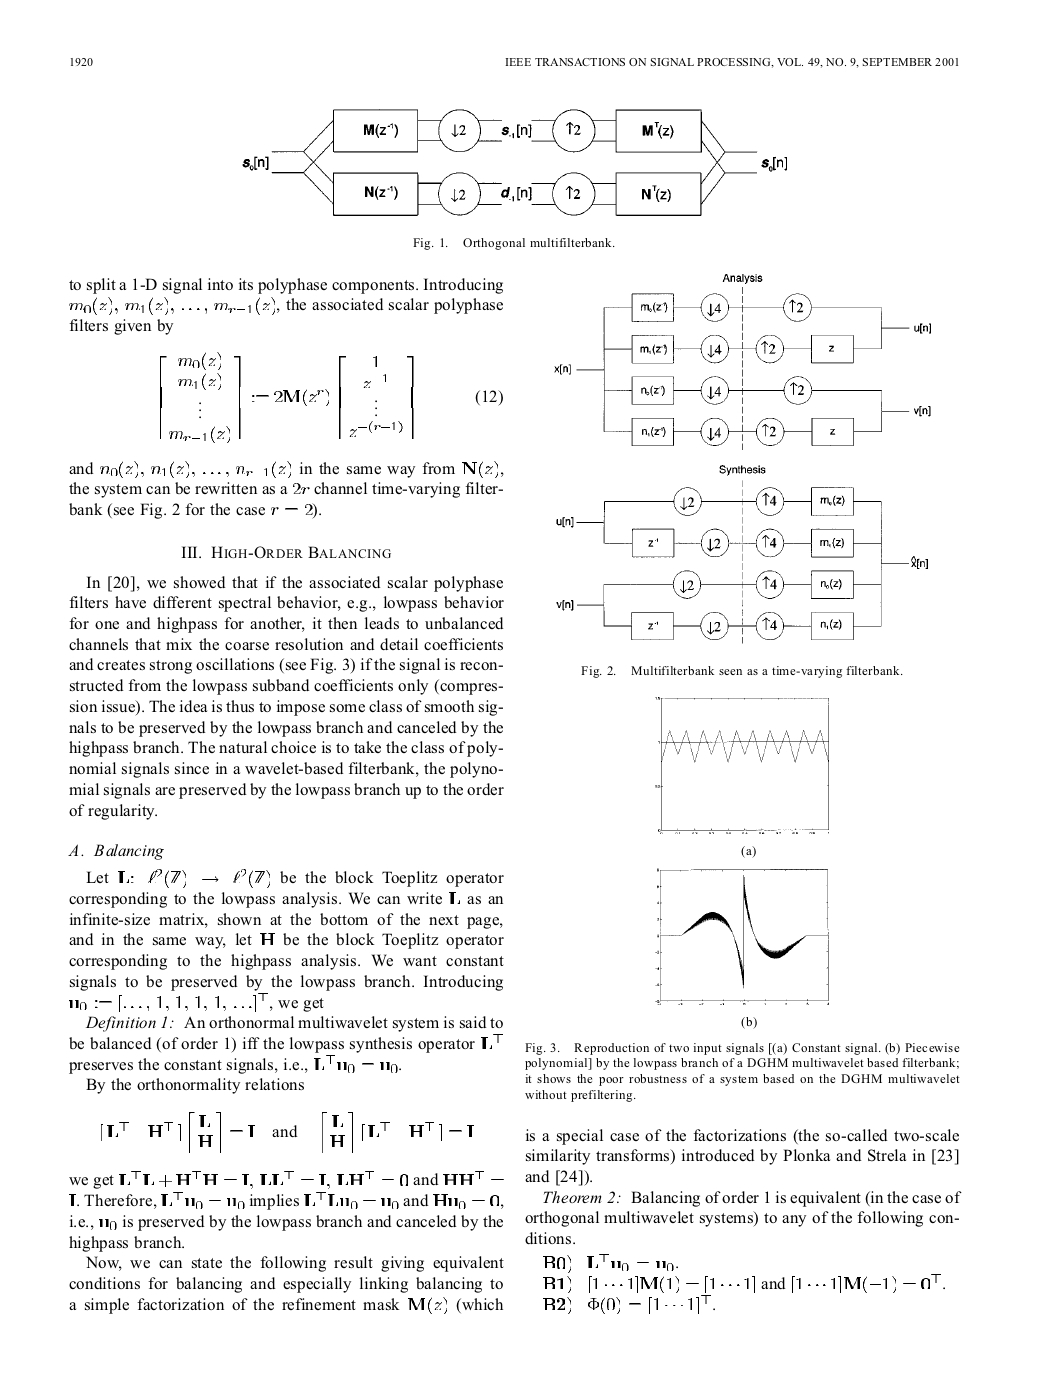figure: (554, 286, 929, 450), (556, 479, 927, 644), (242, 108, 786, 216), (655, 695, 828, 834), (655, 867, 828, 1005)
formula: (160, 351, 502, 444), (101, 1111, 473, 1153), (69, 1171, 503, 1188), (543, 1274, 944, 1292), (69, 993, 323, 1011), (543, 1295, 714, 1313), (543, 1254, 676, 1272)
